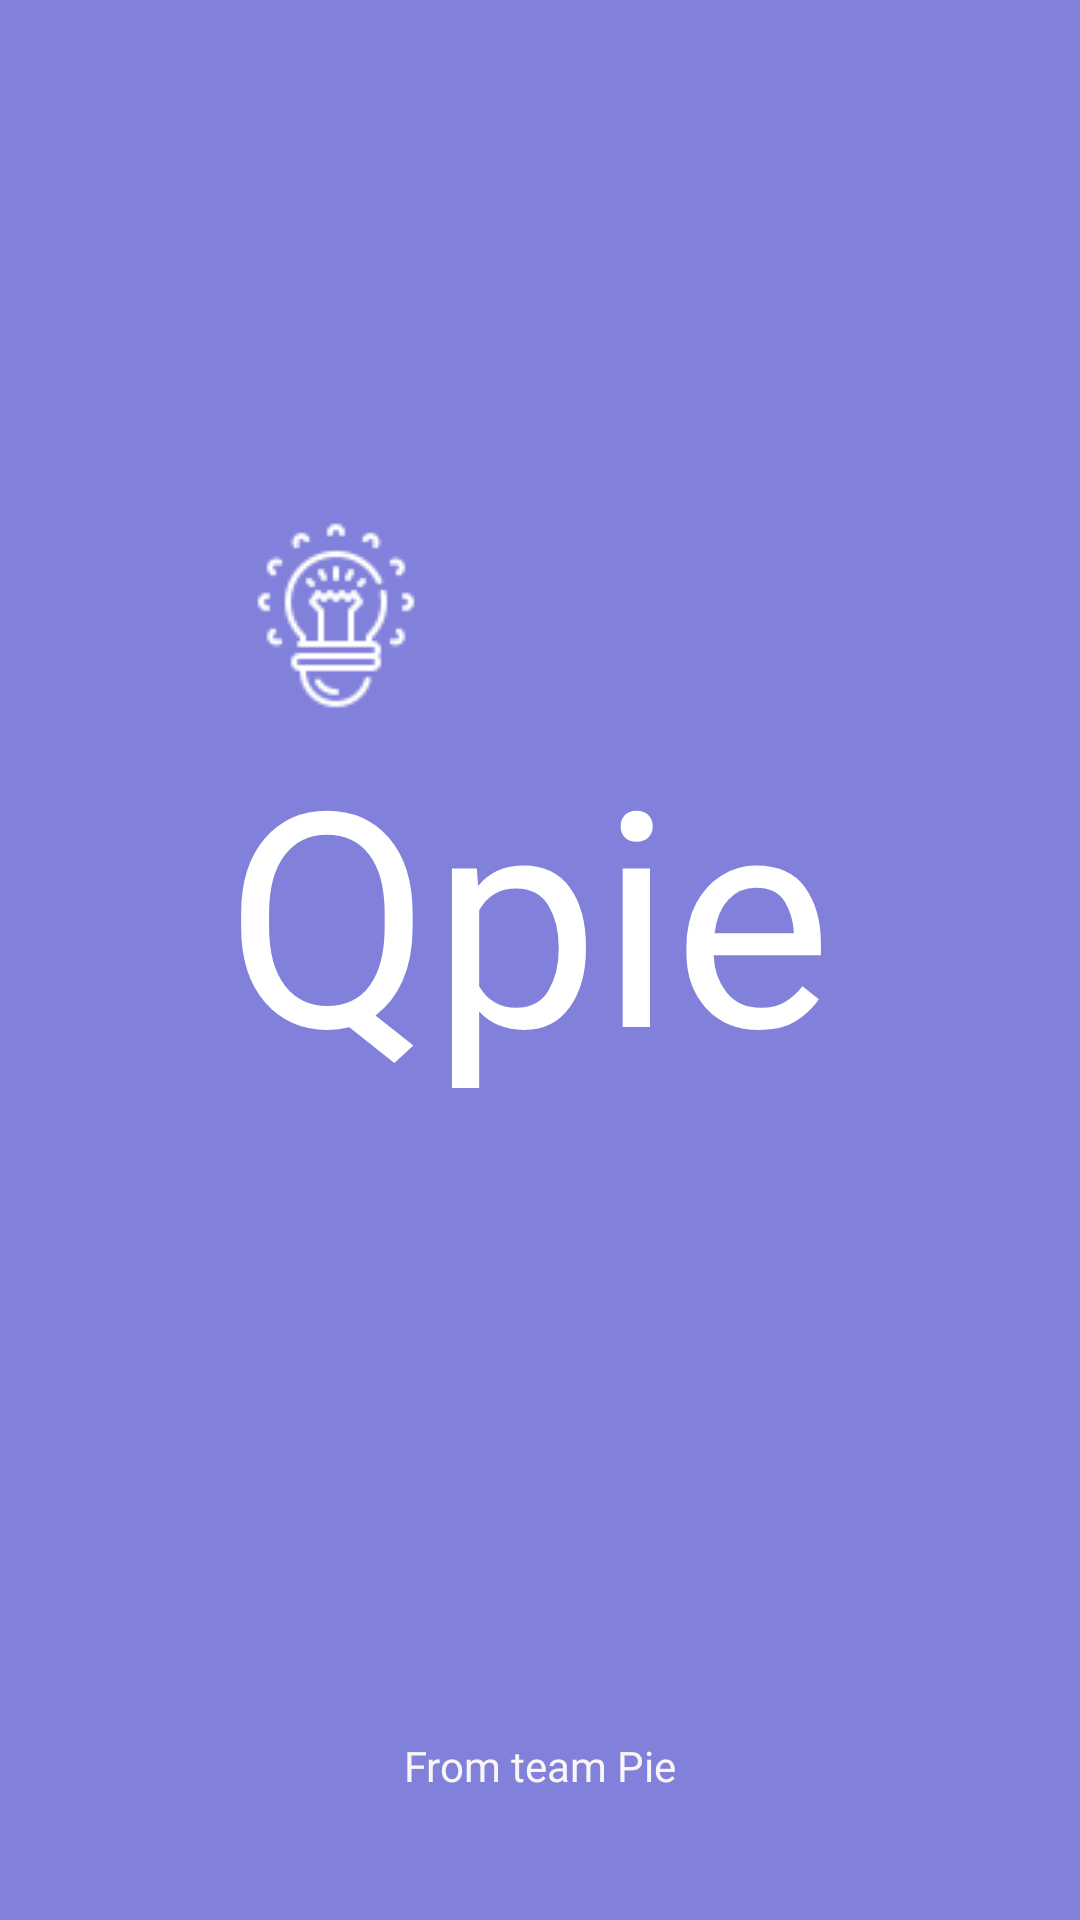

Named icons in this screenshot (1080 × 1920) and their centers, [x,y]:
bulb: [336,615]
